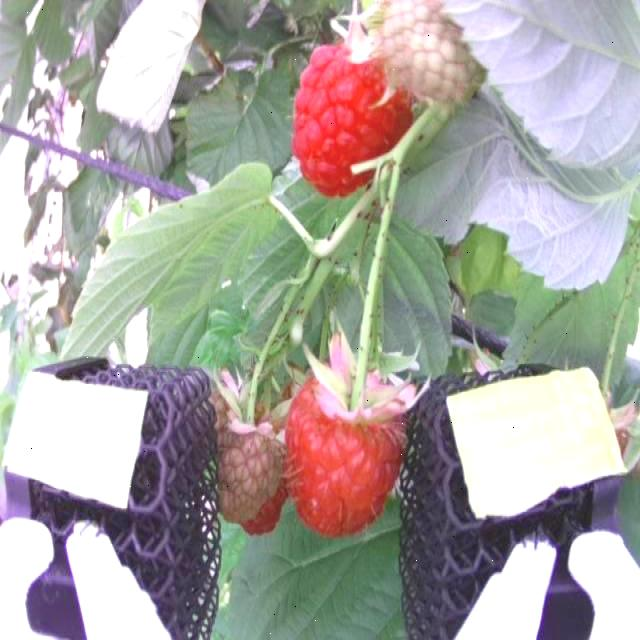Riped berries: (284, 350, 409, 534), (284, 27, 412, 198)
